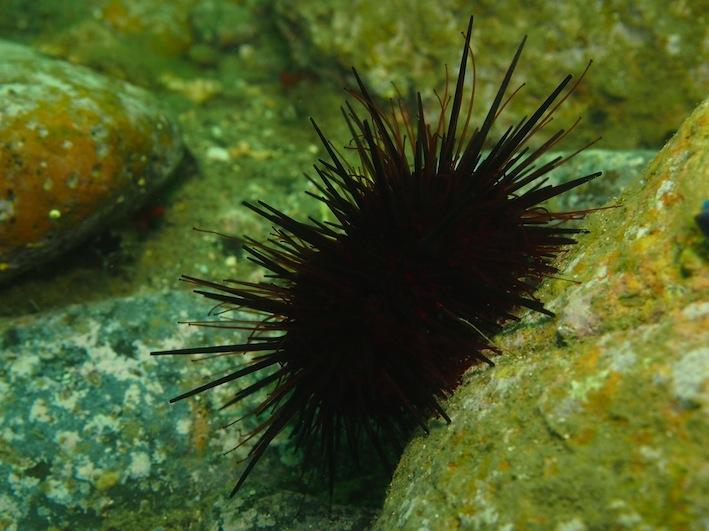urchin: (204, 74, 578, 465)
